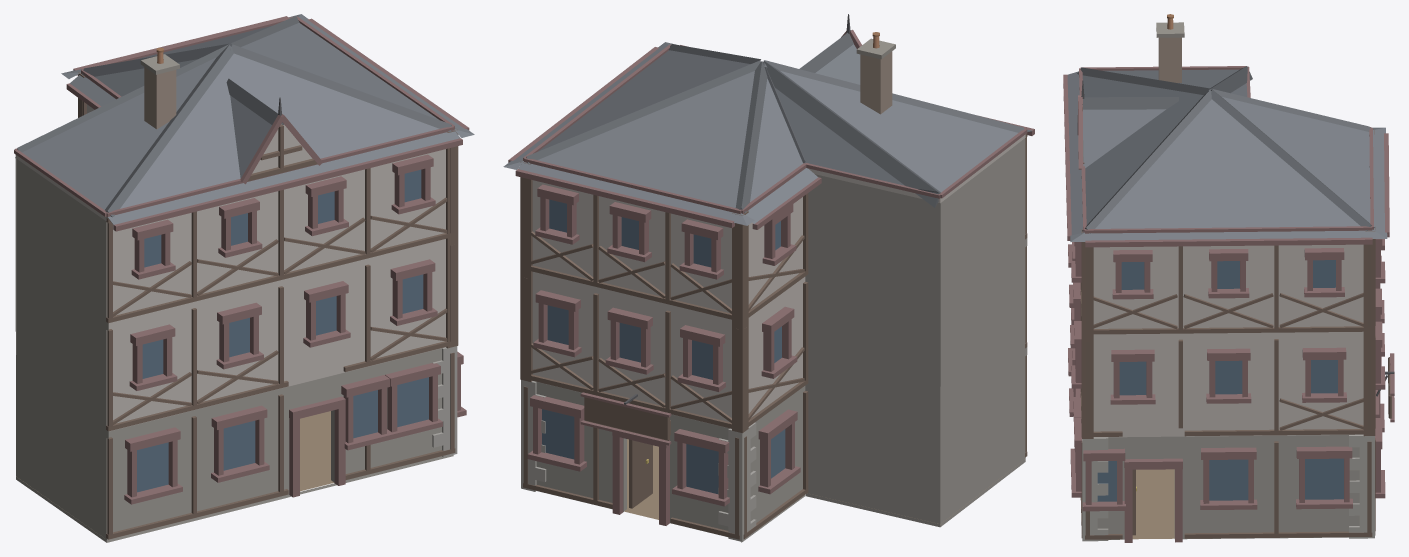
The model's file is b023_closed.glb.
3 renders of one model, left to right at view 1: azimuth 30°, elevation 25°; view 2: azimuth 150°, elevation 25°; view 3: azimuth 270°, elevation 25°, orthographic. The views are drawn at different scales.
Visible parts, largest first — view 1: B023_visible; view 2: B023_visible; view 3: B023_visible.
Part boxes in pixels (box(x1,y1,x2,y2)): B023_visible: box(14, 14, 474, 542); B023_visible: box(503, 14, 1034, 542); B023_visible: box(1063, 14, 1394, 542).
Bounding box in the file's own units: 11.45 × 12.86 × 9.37.
